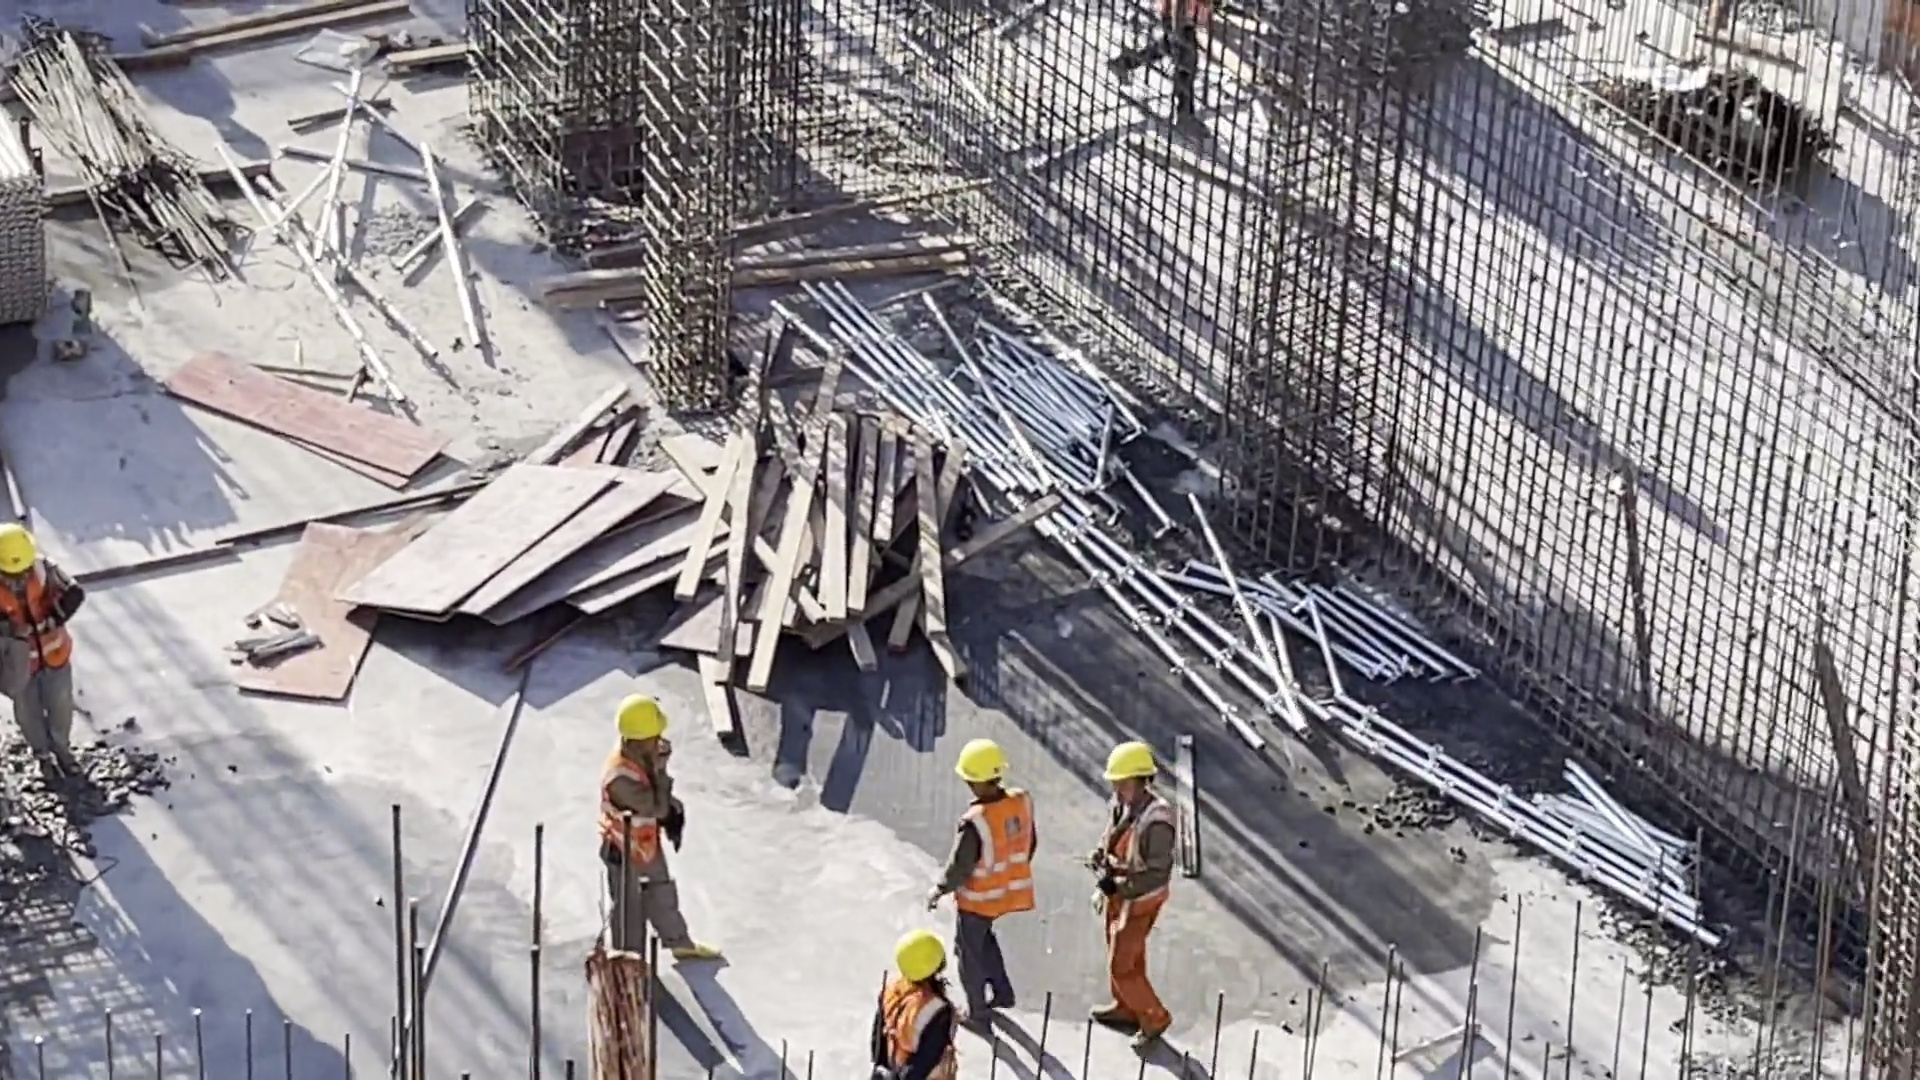helmet: (895, 932, 952, 989), (964, 737, 1026, 782), (1, 517, 45, 579), (618, 695, 669, 748), (1104, 739, 1160, 776)
person: (592, 694, 738, 969), (940, 730, 1056, 1031), (1, 522, 96, 800), (1093, 737, 1167, 1053), (860, 935, 970, 1080), (1119, 1, 1226, 142)
vest: (947, 794, 1033, 922), (1091, 796, 1185, 905), (595, 748, 680, 860), (1, 576, 77, 668), (875, 981, 944, 1072)
